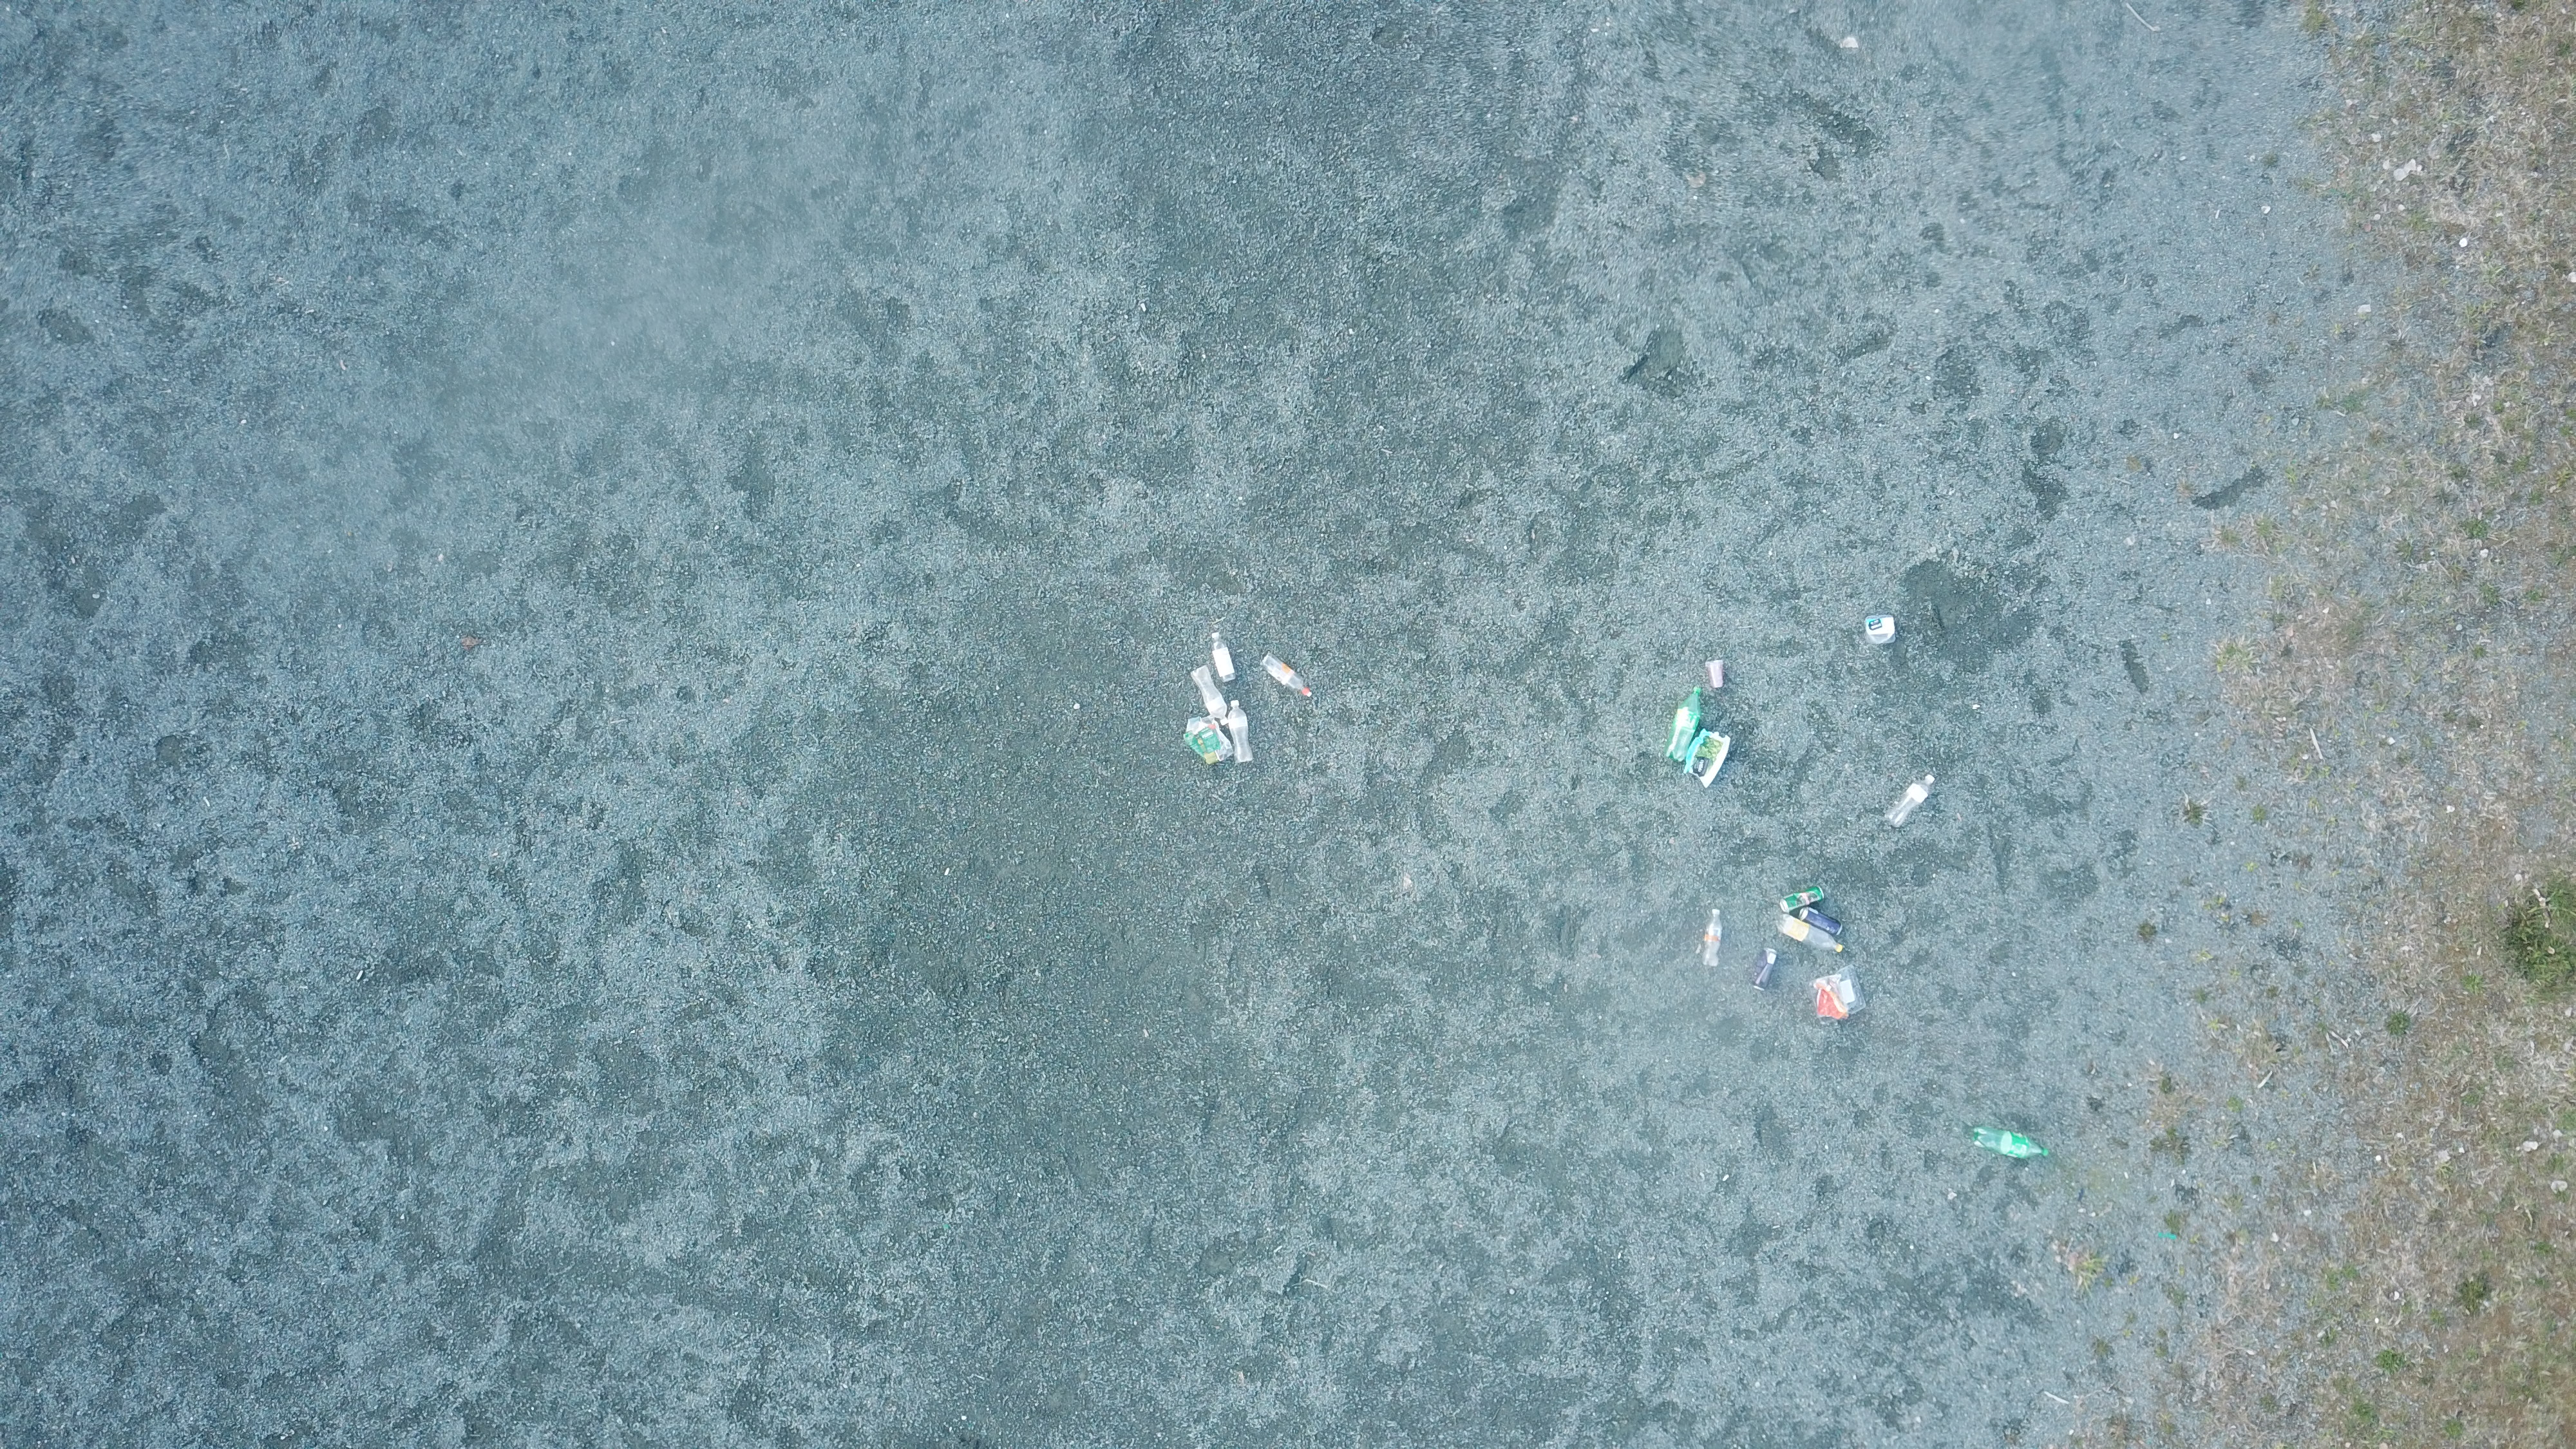Can: (1798, 908, 1844, 936), (1780, 885, 1824, 911), (1755, 948, 1776, 991)
Plastic: (1808, 964, 1867, 1023), (1684, 729, 1730, 789), (1184, 715, 1233, 764), (1865, 616, 1897, 644), (1706, 660, 1725, 688)
PlasticBottle: (1663, 686, 1702, 764), (1973, 1127, 2049, 1162), (1884, 775, 1934, 828), (1776, 915, 1844, 954), (1260, 653, 1313, 699), (1191, 665, 1230, 725), (1228, 701, 1253, 764), (1210, 633, 1237, 683), (1702, 909, 1723, 966)
